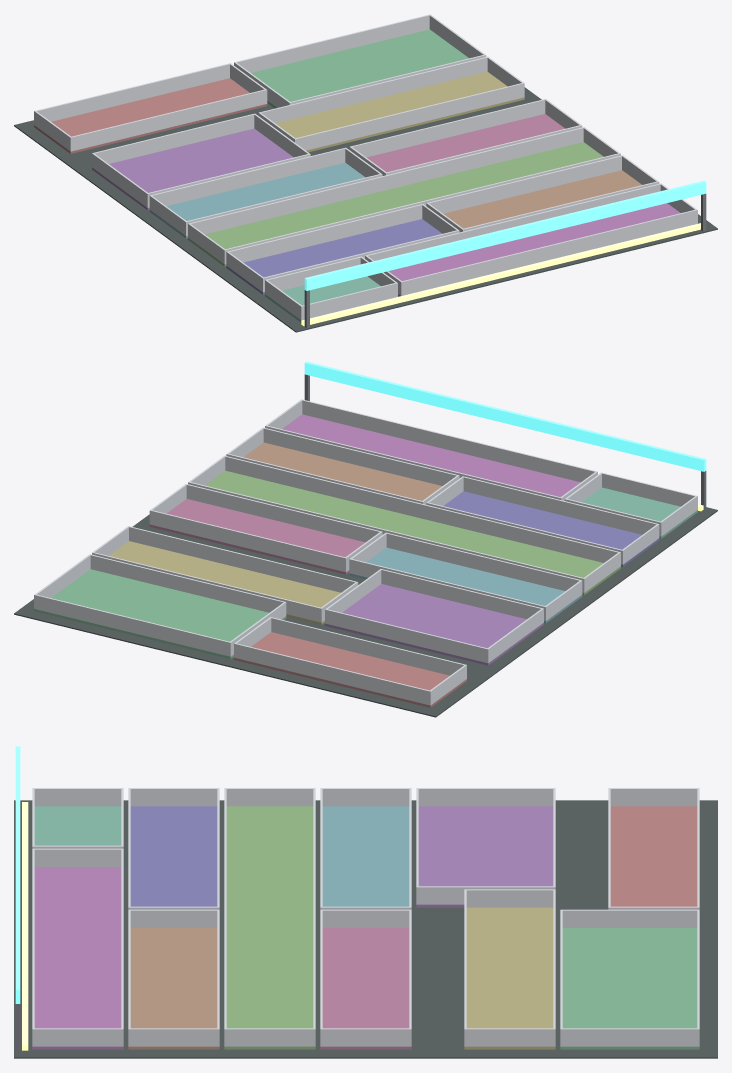
Rendered from hall-fiber-splicers.glb.
3 views of the same model, one above another, from view 1: azimuth 30°, elevation 25°; view 2: azimuth 150°, elevation 25°; view 3: azimuth 270°, elevation 25° (orthographic). The views are drawn at different scales.
Visible parts, largest first — view 1: Fiber Splicers; view 2: Fiber Splicers; view 3: Fiber Splicers.
Boxes of the visible parts, x1,y1,x2,y2 form: Fiber Splicers: [14, 14, 717, 332]; Fiber Splicers: [14, 361, 717, 717]; Fiber Splicers: [14, 746, 717, 1058].
Size of the model in its own units: 38 by 4.3 by 44.
